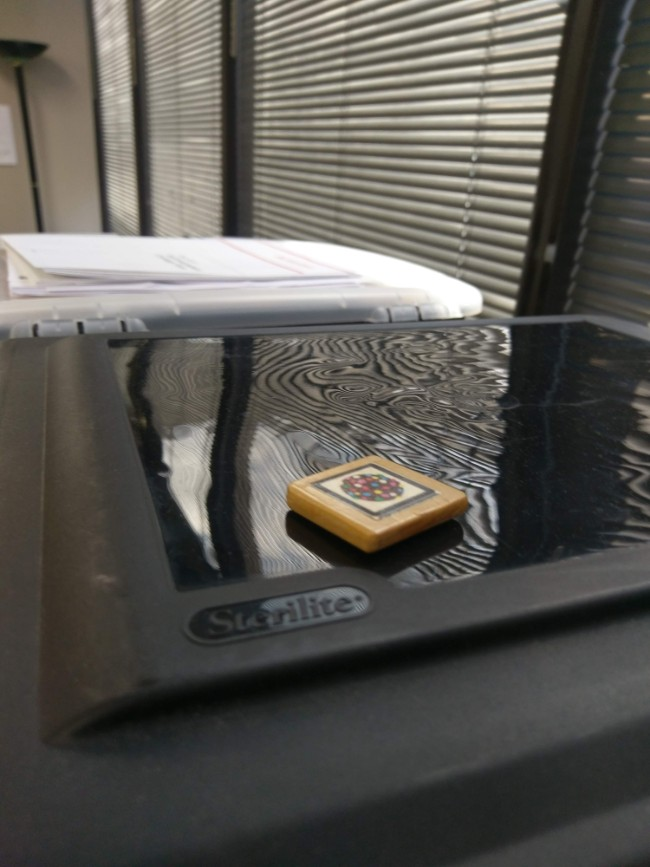cookie: (312, 462, 433, 516)
